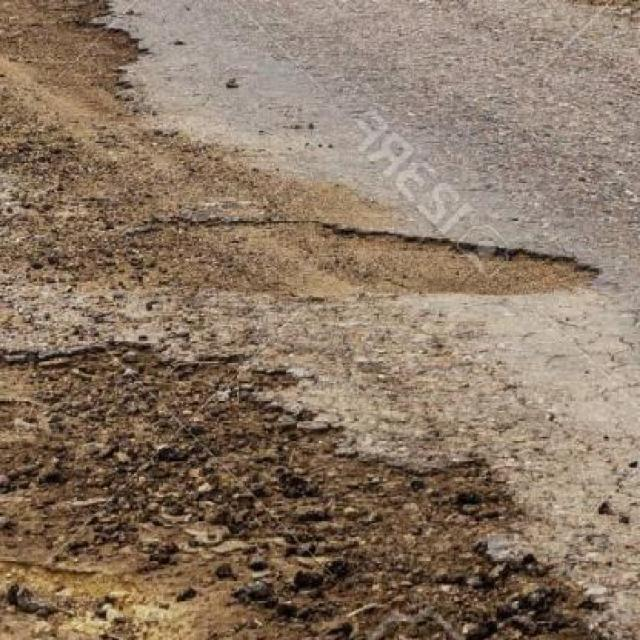pothole: (1, 337, 608, 638), (20, 209, 608, 317)
